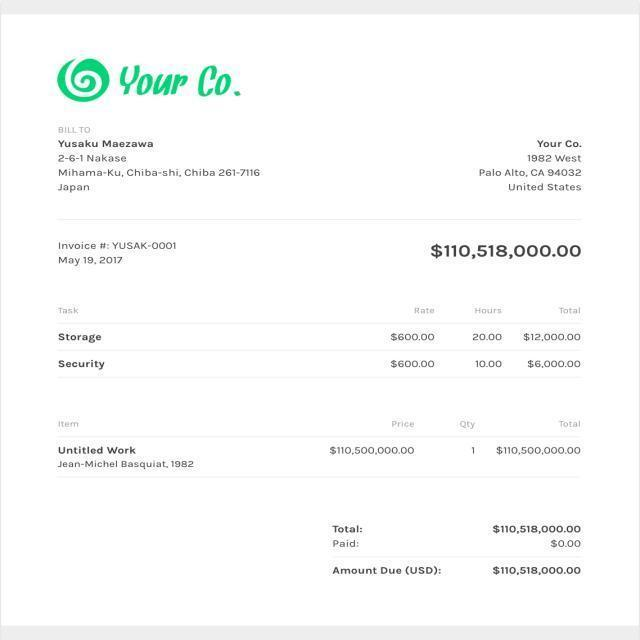paragraph: (43, 124, 273, 203), (470, 130, 596, 199), (329, 519, 588, 551), (118, 56, 246, 105), (51, 234, 190, 277), (330, 562, 587, 579), (424, 237, 592, 261)
table: (42, 300, 595, 386), (51, 413, 605, 480)
